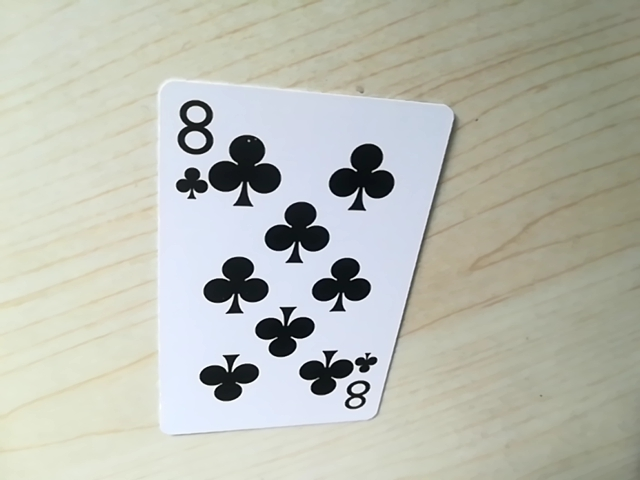mh 8: (162, 90, 225, 204), (329, 365, 379, 416)
